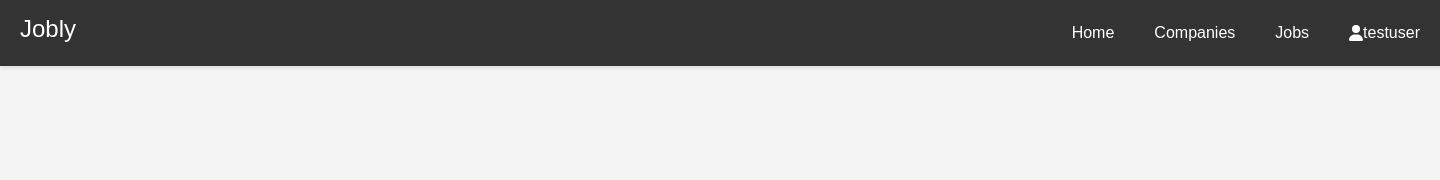
Scenario: Navigation › renders home, companies, jobs, profile, and logout when authenticated
Expected: the link "Home" is shown, [1072,24,1114,41]
Expected: the link "Companies" is shown, [1154,24,1235,41]
# Click on the user dropdown to open it
Click the text "testuser". click: x=1385, y=32
box: [1349,24,1420,41]
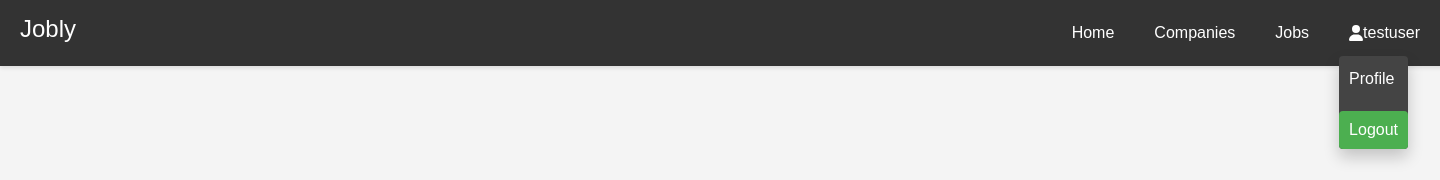
Result: the link "Profile" is shown at [1349,70,1394,87]
Result: the button "Logout" is shown at [1339,111,1408,149]
